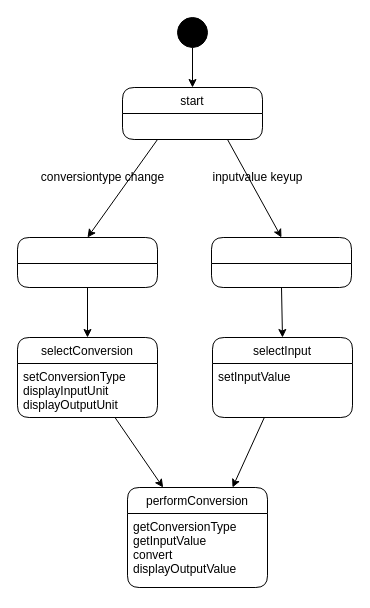
Image size: 370x608. Some labels were removed from this diagram. Each missing label, with the centre of its shape:
conversionChange: the point at 87,262
inputChange: the point at 281,262
